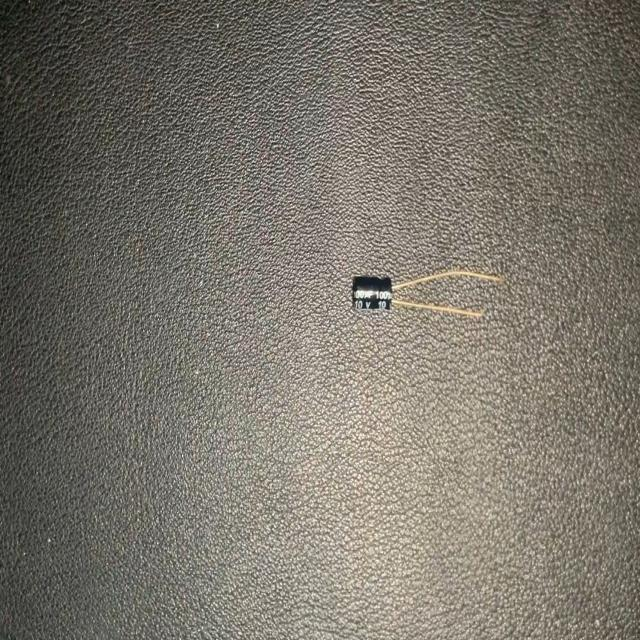capacitor: (351, 263, 500, 322)
